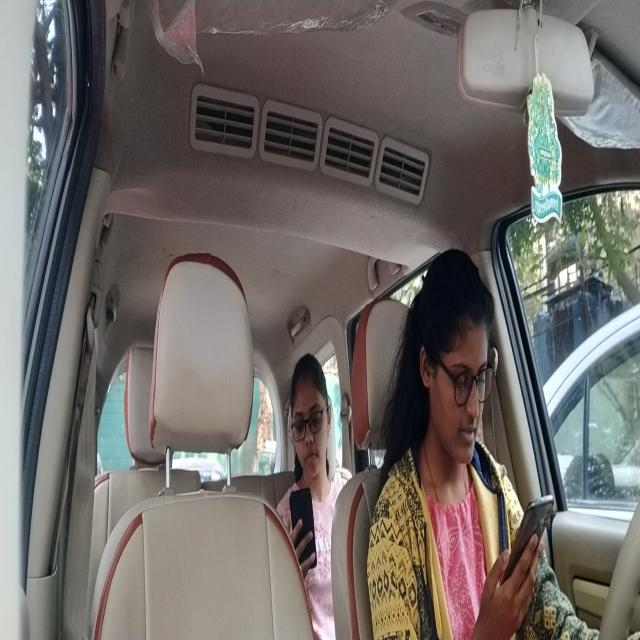mobile: (508, 491, 556, 579)
person: (416, 239, 500, 469), (290, 354, 335, 482)
